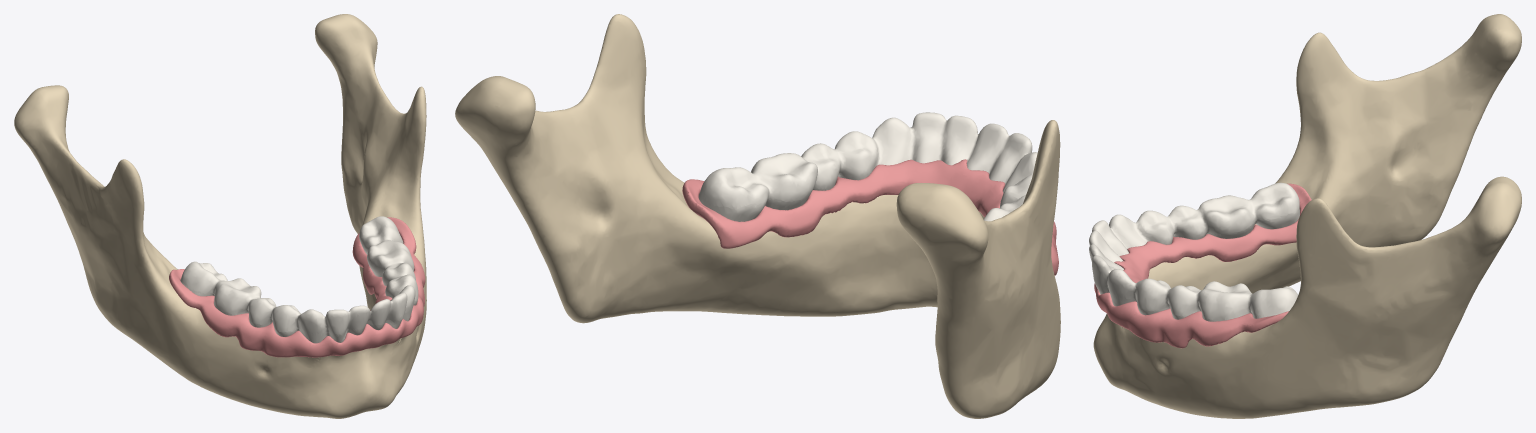
The model's file is dentate-whole.glb.
The picture shows the model from 3 angles, left to right: view 1: azimuth 30°, elevation 25°; view 2: azimuth 150°, elevation 25°; view 3: azimuth 270°, elevation 25°; orthographic projection. The views are drawn at different scales.
Parts seen in each view (by area): view 1: bone, teeth, gum; view 2: bone, teeth, gum; view 3: bone, teeth, gum.
Part boxes in pixels (x1,y1,x2,y2): bone: (14, 14, 426, 418); teeth: (180, 216, 418, 343); gum: (169, 217, 425, 357); bone: (455, 14, 1060, 418); teeth: (698, 112, 1037, 221); gum: (682, 159, 1058, 275); bone: (1093, 14, 1521, 418); teeth: (1089, 182, 1299, 321); gum: (1094, 183, 1311, 348).
Bounding box in the file's own units: 106 × 68.43 × 96.84.
